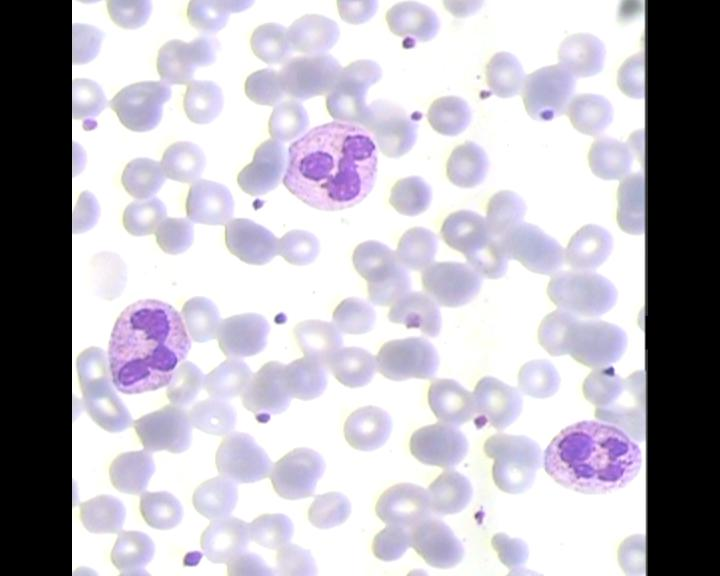neut: (279, 118, 380, 212), (104, 295, 196, 396), (542, 414, 640, 496)
